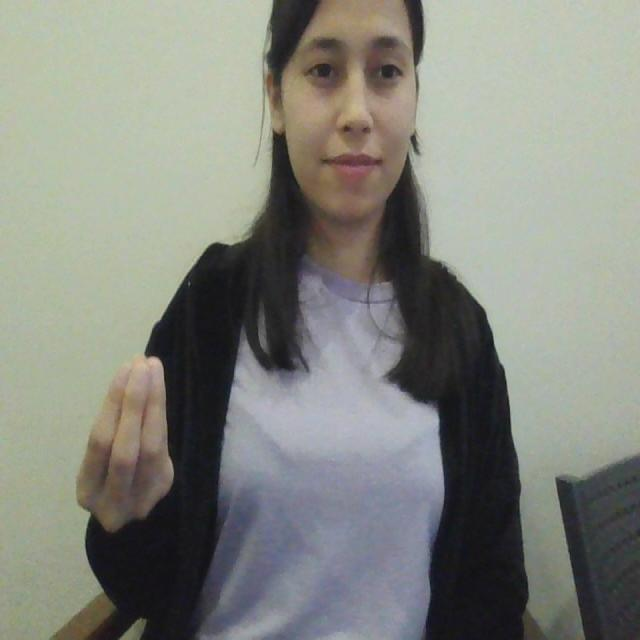iyi: (72, 344, 181, 541)
